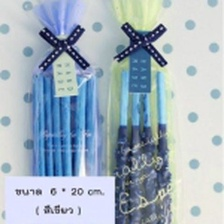snack: (101, 0, 185, 224), (24, 0, 106, 224)
